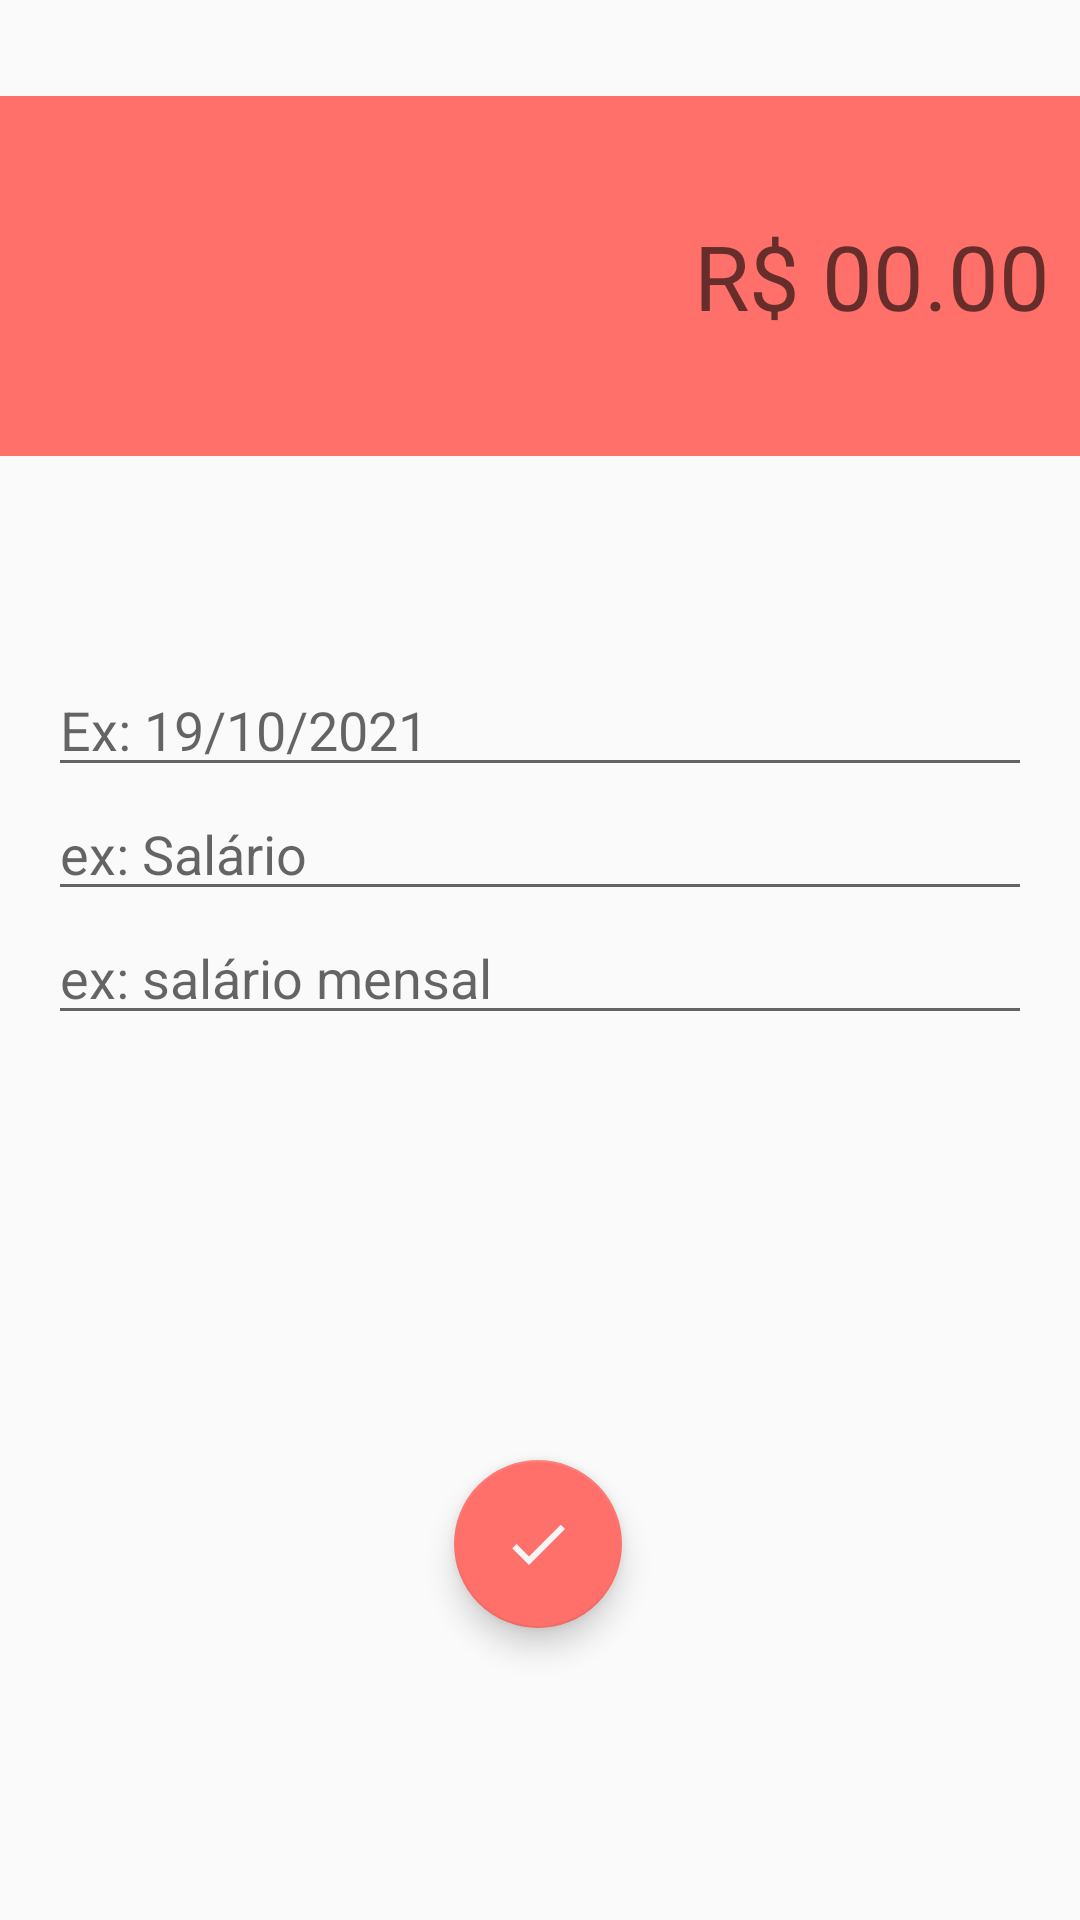

Icons on this 1080w x 1920h Android screen, each with the point to tap as (x,y):
confimar check: (538,1544)
